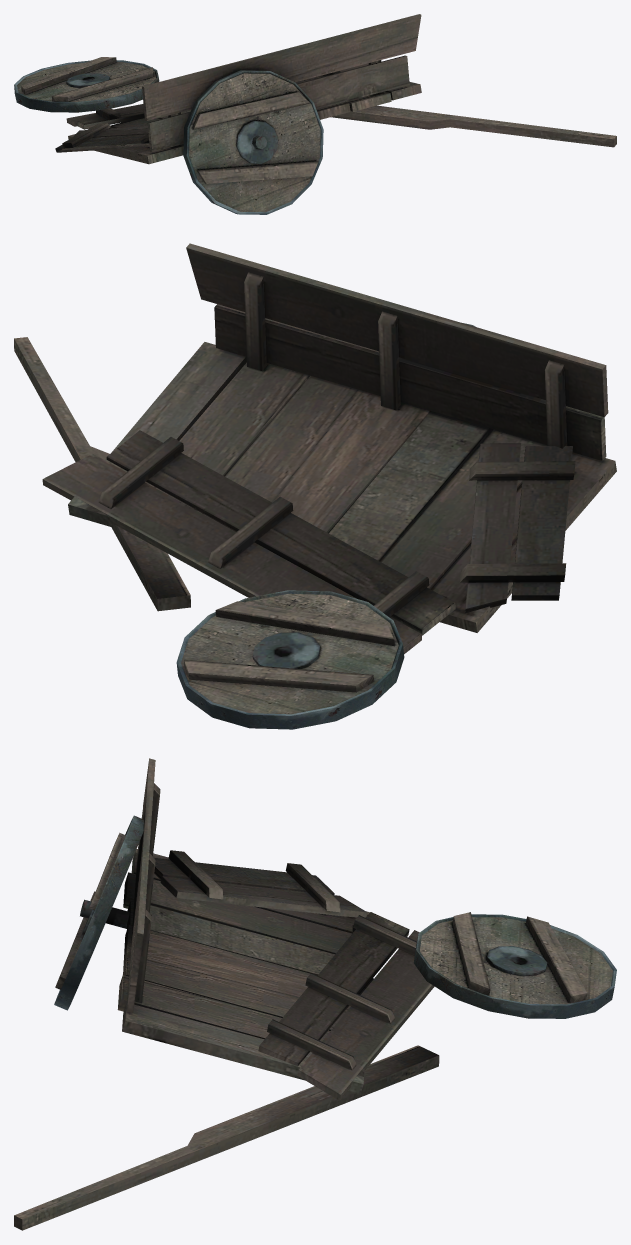
The model's file is wooden_cart_broken.fbx.
The picture shows the model from 3 angles, top to bottom: view 1: azimuth 30°, elevation 25°; view 2: azimuth 150°, elevation 25°; view 3: azimuth 270°, elevation 25°; orthographic projection. The views are drawn at different scales.
Visible parts, largest first — view 1: wooden_cart_broken; view 2: wooden_cart_broken; view 3: wooden_cart_broken.
Part boxes in pixels (x1=…): wooden_cart_broken: x1=14, y1=14, x2=616, y2=214; wooden_cart_broken: x1=14, y1=243, x2=616, y2=729; wooden_cart_broken: x1=14, y1=758, x2=616, y2=1230.
Size of the model in its own units: 239 by 69.02 by 195.
